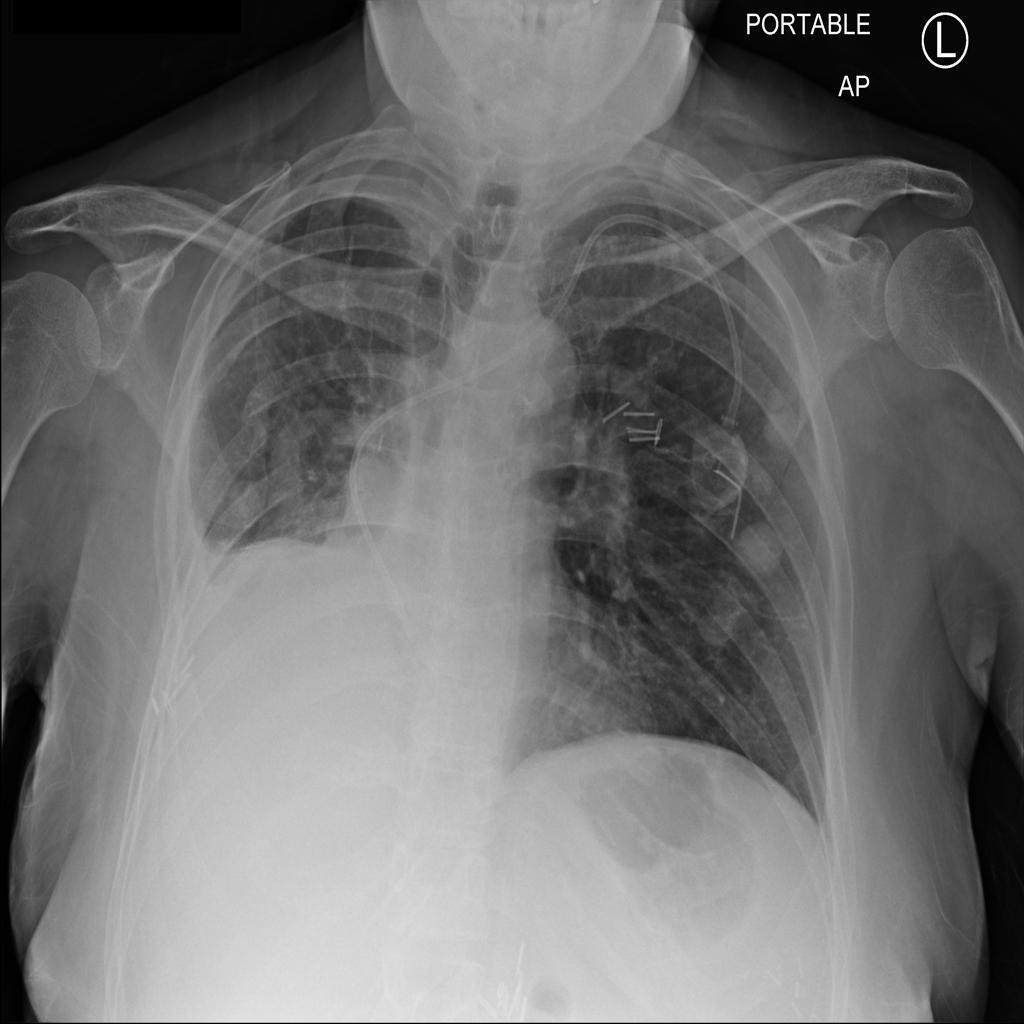nodule: (725, 506, 794, 588), (686, 581, 760, 657), (209, 466, 275, 540), (750, 379, 812, 457)
